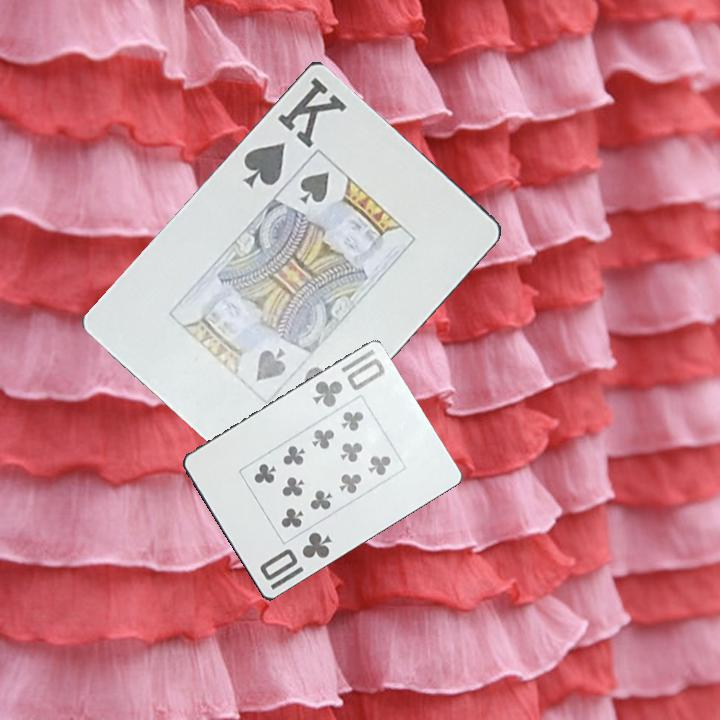Ks: (239, 72, 350, 190)
Tc: (308, 346, 389, 411), (256, 527, 335, 584)
